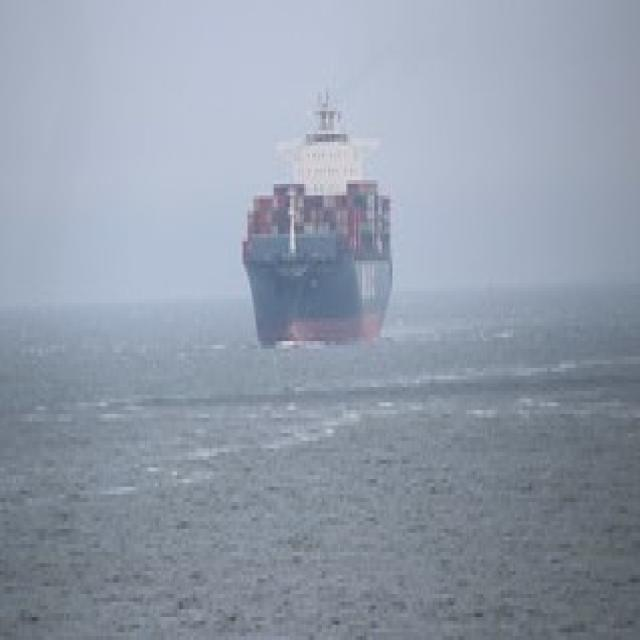cargoship: (233, 92, 391, 342)
